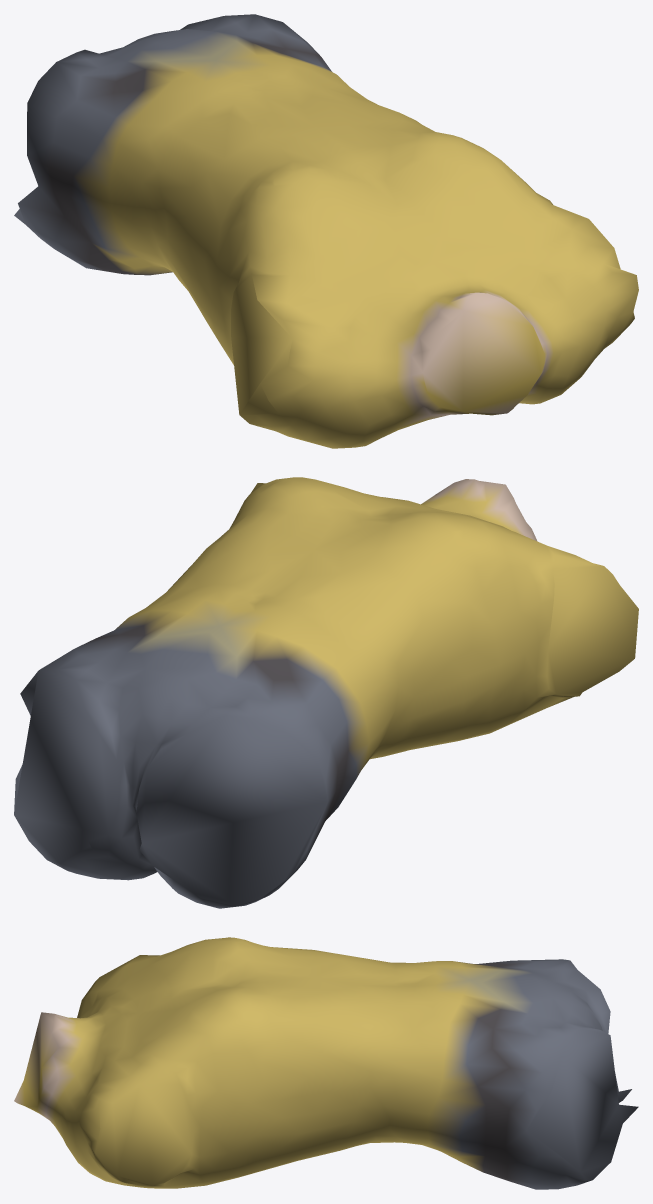
File: teibi_torso_authored.glb
The picture shows the model from 3 angles, top to bottom: view 1: azimuth 30°, elevation 25°; view 2: azimuth 150°, elevation 25°; view 3: azimuth 270°, elevation 25°; orthographic projection. The views are drawn at different scales.
Parts seen in each view (by area): view 1: piece_torso; view 2: piece_torso; view 3: piece_torso.
Boxes of the visible parts, <box> form: piece_torso: <box>14,14,638,448</box>; piece_torso: <box>14,477,638,908</box>; piece_torso: <box>14,937,638,1189</box>.
Size of the model in its own units: 0.444 by 0.256 by 0.7556.
